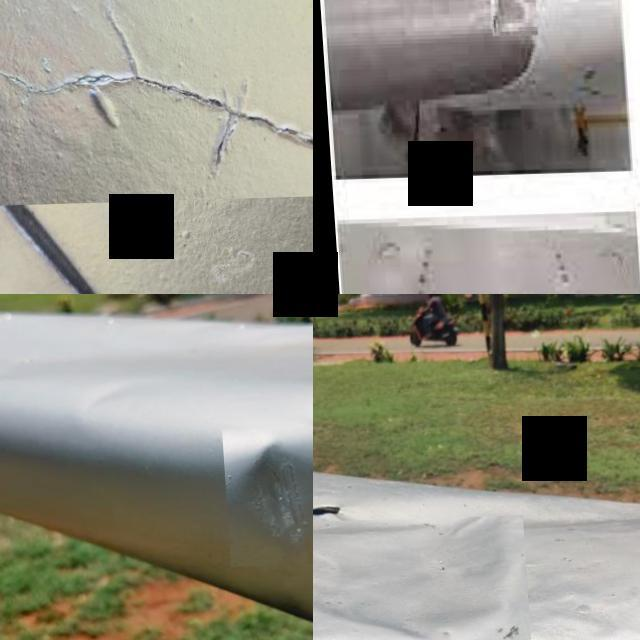Crack: (0, 0, 313, 206)
Dent: (313, 518, 526, 640), (218, 428, 313, 568), (491, 0, 534, 37)
